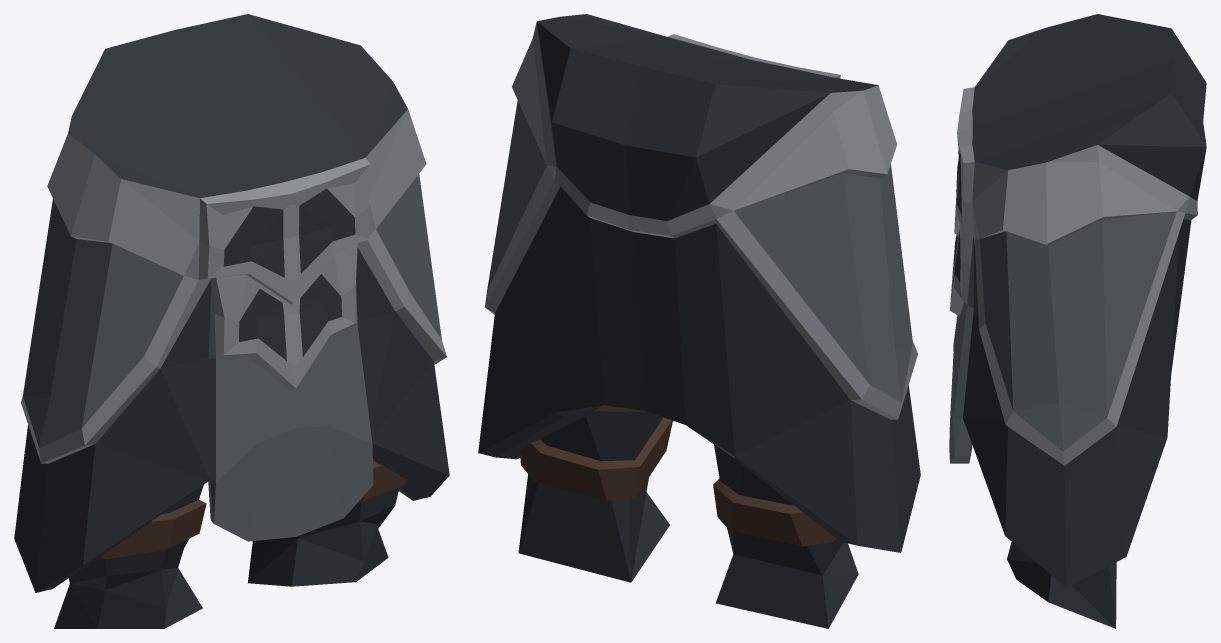
Rendered from Chr_Hips_Female_16_Static.fbx.
3 renders of one model, left to right at view 1: azimuth 30°, elevation 25°; view 2: azimuth 150°, elevation 25°; view 3: azimuth 270°, elevation 25°, orthographic. The views are drawn at different scales.
Parts seen in each view (by area): view 1: Chr_Hips_Female_16_Static; view 2: Chr_Hips_Female_16_Static; view 3: Chr_Hips_Female_16_Static.
Boxes of the visible parts, x1,y1,x2,y2 form: Chr_Hips_Female_16_Static: [14, 14, 449, 628]; Chr_Hips_Female_16_Static: [478, 14, 920, 628]; Chr_Hips_Female_16_Static: [949, 14, 1206, 628].
Size of the model in its own units: 0.4435 by 0.5803 by 0.27.
